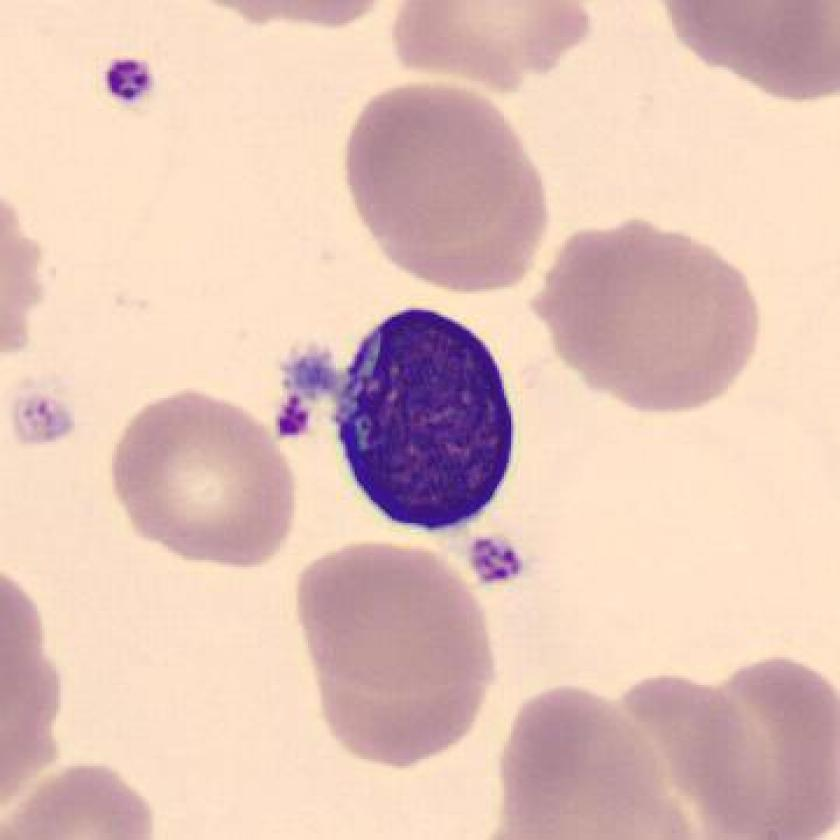lymphocyte: (321, 293, 526, 547)
